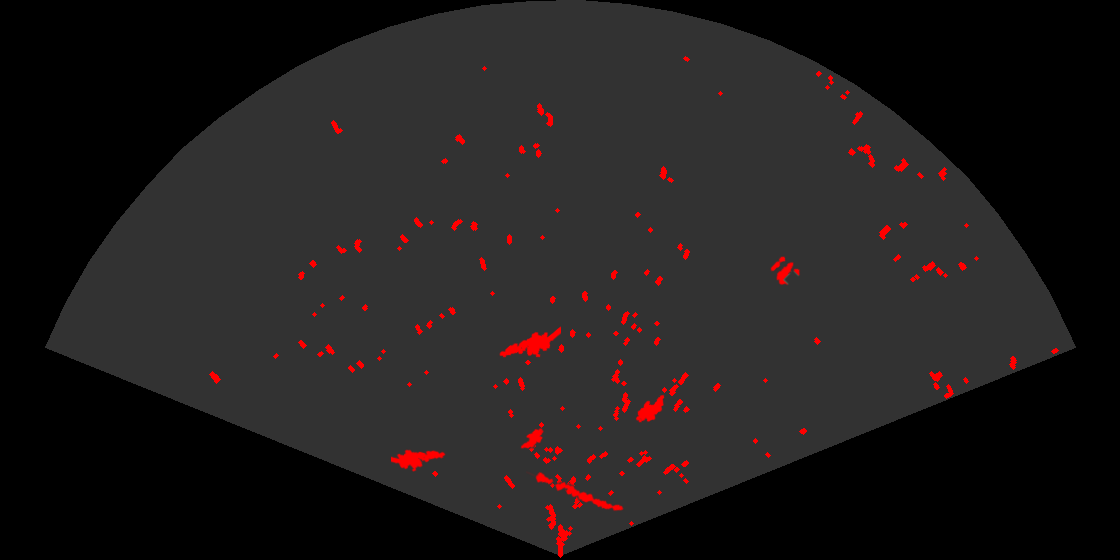AUV: (634, 393, 666, 424), (519, 426, 545, 450)
ball: (769, 255, 802, 287)
chain: (526, 470, 625, 513)
frogman: (498, 325, 561, 359), (391, 448, 446, 473)
